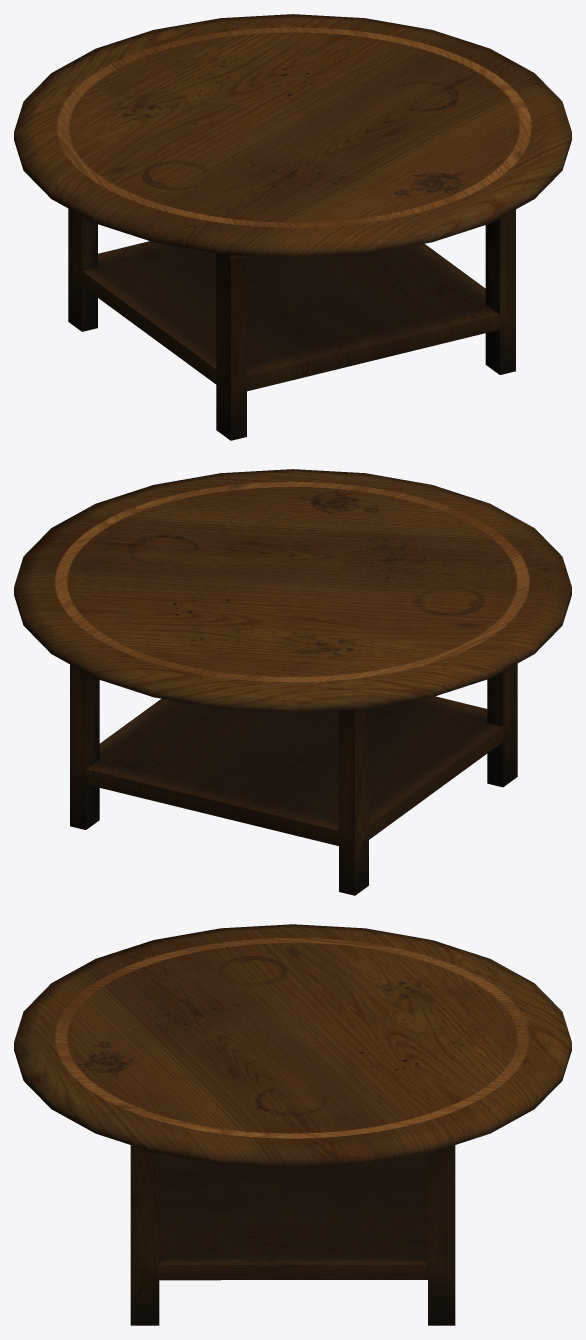
Rendered from CoffeeTableRound.obj.
3 views of the same model, one above another, from view 1: azimuth 30°, elevation 25°; view 2: azimuth 150°, elevation 25°; view 3: azimuth 270°, elevation 25° (orthographic).
Visible parts, largest first — view 1: Cube; view 2: Cube; view 3: Cube.
Boxes of the visible parts, box(x1,y1,x2,y2) form: Cube: box(14, 14, 571, 440); Cube: box(14, 469, 571, 895); Cube: box(14, 924, 571, 1325).
Size of what is drawn, in the model's own units: 3.44 by 1.49 by 3.44.
